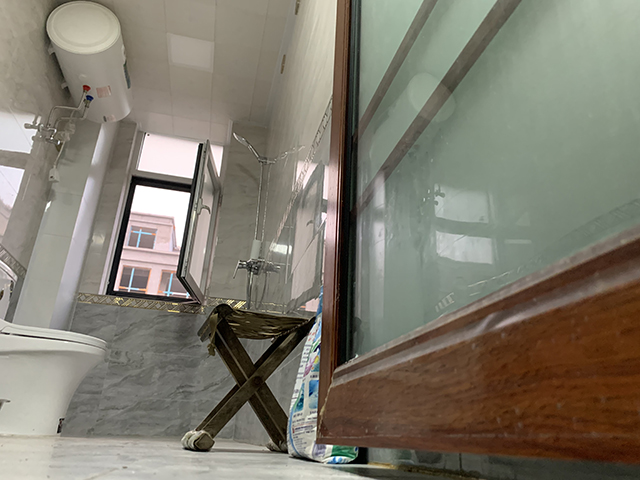closestool: (1, 260, 109, 439)
stool: (179, 302, 318, 453)
